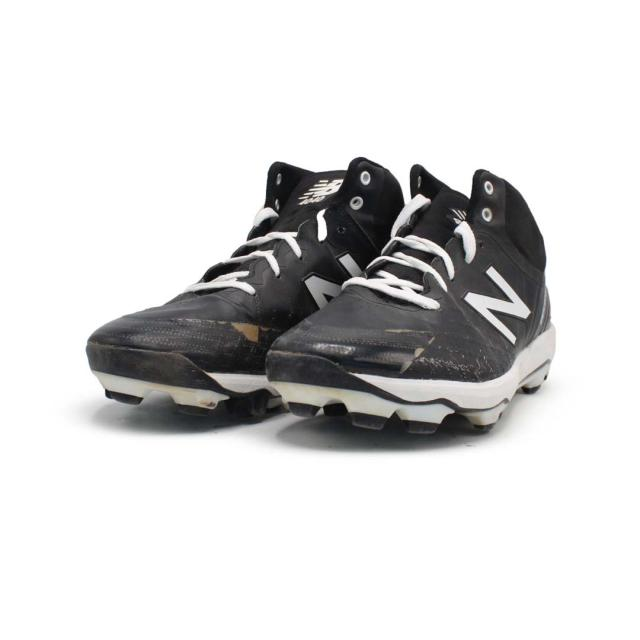midsole: (268, 329, 556, 436), (84, 343, 273, 412)
uppersole: (90, 157, 405, 372), (270, 162, 547, 364)
